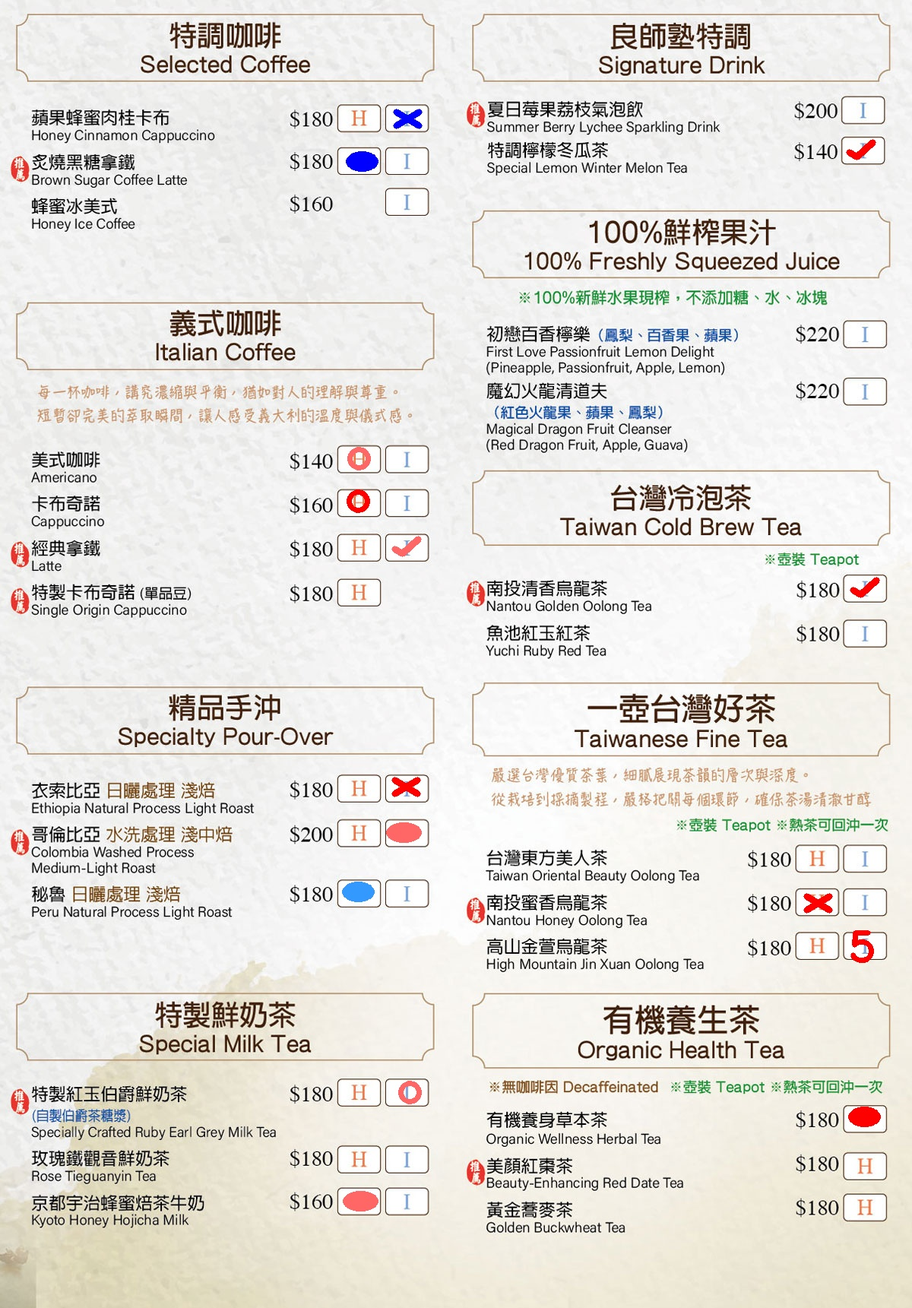marked_item: (338, 879, 377, 903), (842, 138, 881, 162), (844, 934, 883, 958), (388, 107, 427, 131), (387, 775, 426, 799), (342, 149, 381, 173), (846, 576, 885, 600), (339, 489, 378, 513), (388, 535, 426, 559), (340, 1189, 379, 1212), (799, 892, 838, 915), (385, 822, 424, 845), (846, 1106, 885, 1129), (340, 447, 378, 470), (391, 1081, 429, 1104)
